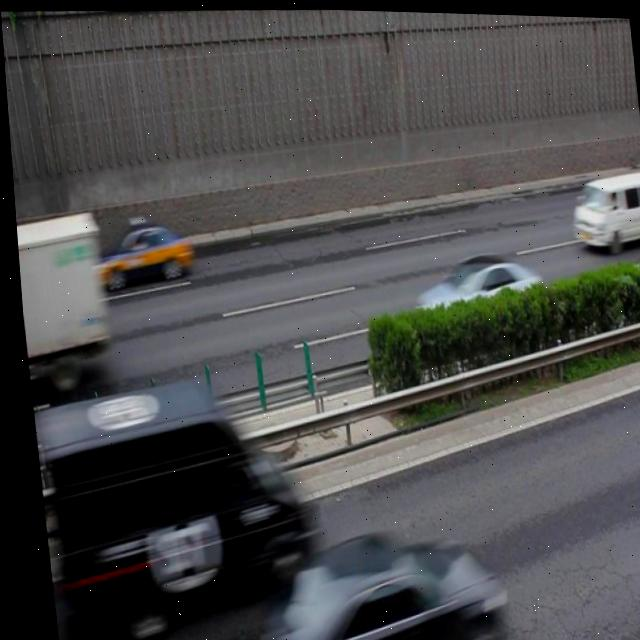bus: (12, 210, 110, 397)
car: (243, 522, 493, 640), (402, 248, 542, 350), (84, 215, 193, 290)
truck: (53, 373, 306, 637), (562, 165, 640, 247)
